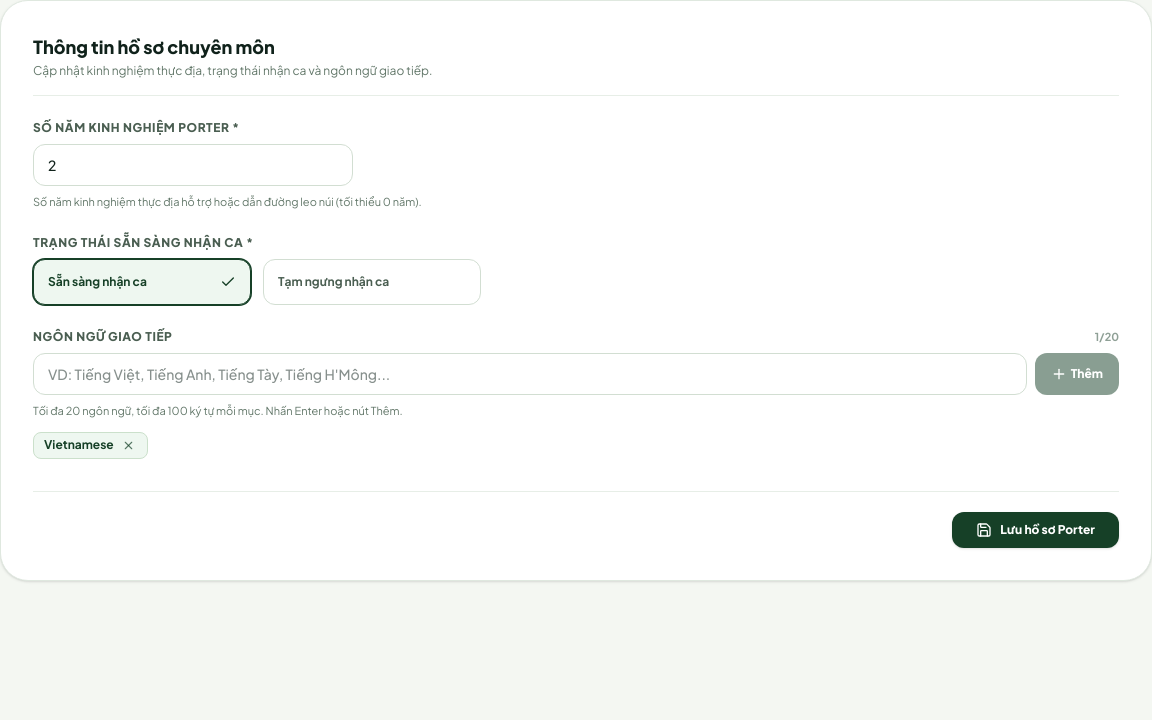
PorterProfileForm & PorterProfileHeader › rejects negative experience input and shows validation error
The image size is (1152, 720).
Replace the text in the number field labelled "Số năm kinh nghiệm Porter *" with "-5" at coordinates (193, 165), box [33,144,353,186]
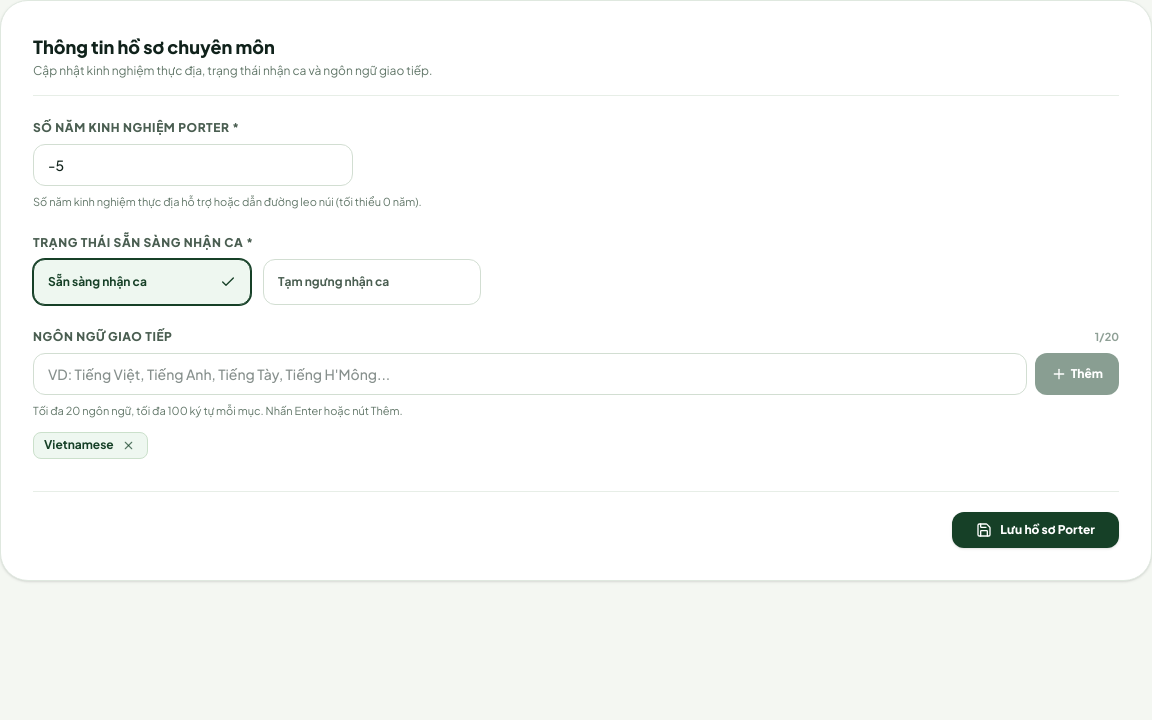
Submit the form with test id "porter-profile-form"
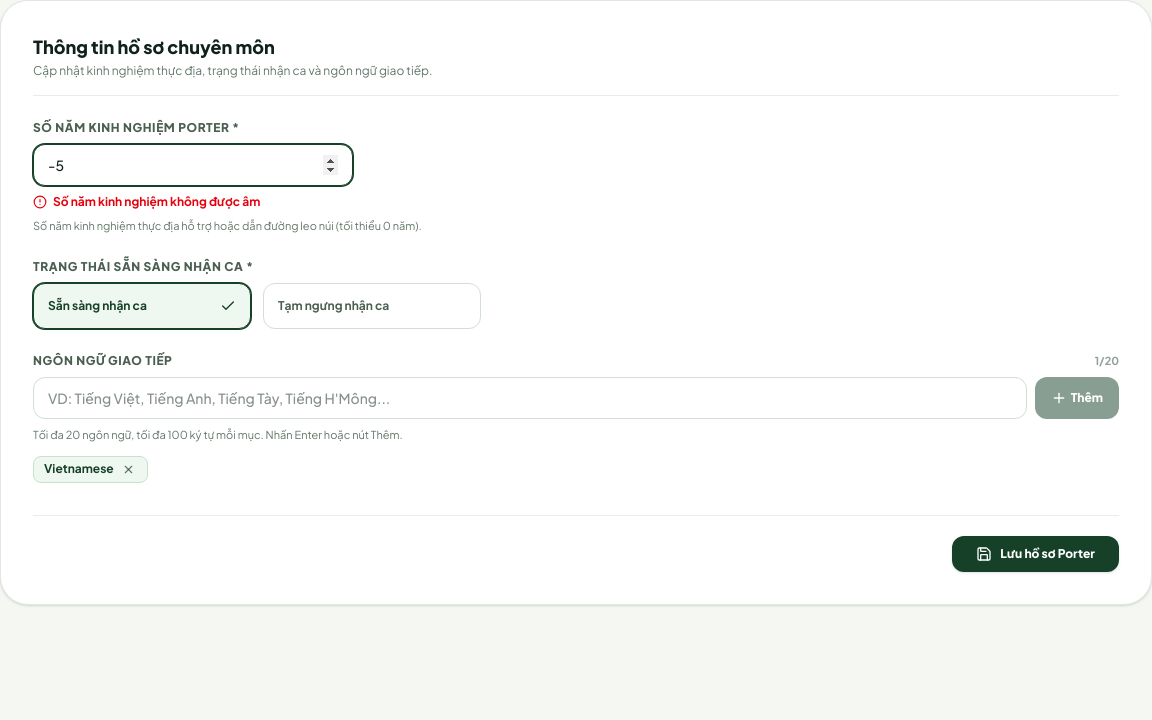
expect the element with test id "experienceYears-error" is shown: met, box [33,194,260,209]
